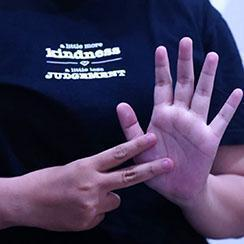N: (13, 27, 244, 244)
